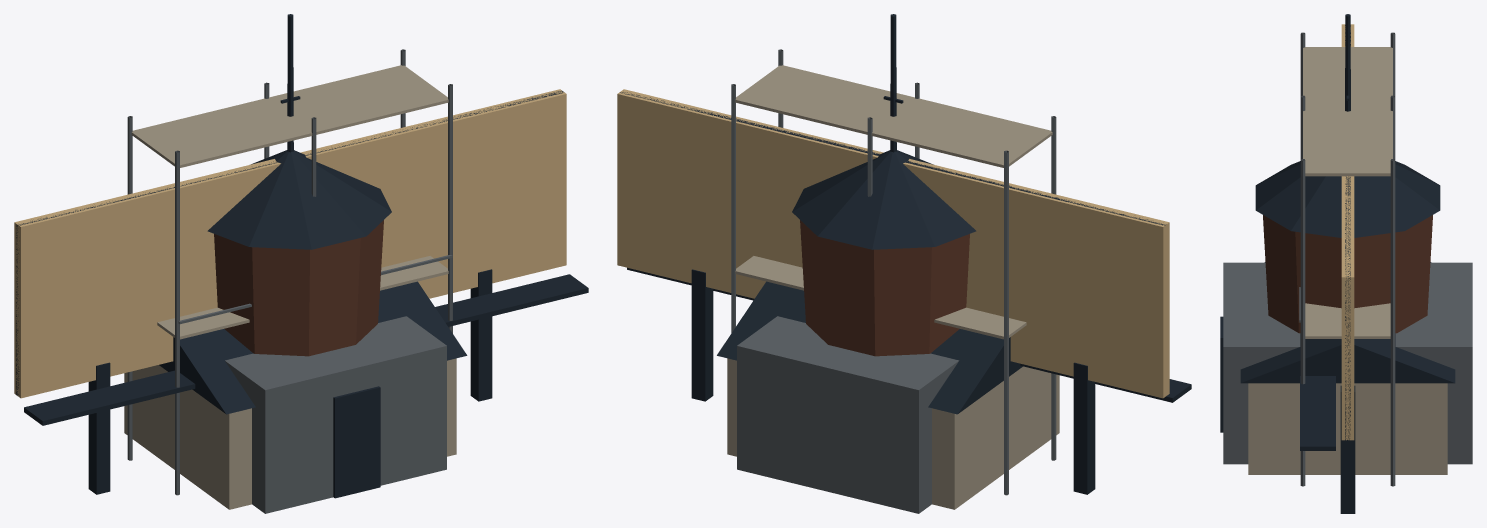
Rendered from kit.glb.
3 views of the same model, side by side, from view 1: azimuth 30°, elevation 25°; view 2: azimuth 150°, elevation 25°; view 3: azimuth 270°, elevation 25° (orthographic). The views are drawn at different scales.
Parts seen in each view (by area): view 1: billboardFrame, stairBulkhead, waterTower, scaffolding, rooftopShack, antenna; view 2: billboardFrame, stairBulkhead, waterTower, scaffolding, rooftopShack, antenna; view 3: waterTower, rooftopShack, scaffolding, stairBulkhead, billboardFrame, antenna.
Boxes of the visible parts, x1=… form: billboardFrame: x1=14, y1=89, x2=588, y2=494; stairBulkhead: x1=225, y1=316, x2=446, y2=513; waterTower: x1=207, y1=150, x2=391, y2=356; scaffolding: x1=127, y1=49, x2=452, y2=495; rooftopShack: x1=124, y1=281, x2=467, y2=509; antenna: x1=280, y1=14, x2=300, y2=152; billboardFrame: x1=617, y1=89, x2=1191, y2=494; stairBulkhead: x1=737, y1=316, x2=959, y2=513; waterTower: x1=792, y1=150, x2=976, y2=356; scaffolding: x1=731, y1=49, x2=1056, y2=495; rooftopShack: x1=717, y1=281, x2=1059, y2=509; antenna: x1=883, y1=14, x2=903, y2=152; waterTower: x1=1255, y1=161, x2=1440, y2=333; rooftopShack: x1=1240, y1=262, x2=1455, y2=474; scaffolding: x1=1299, y1=32, x2=1395, y2=486; stairBulkhead: x1=1220, y1=262, x2=1472, y2=464; billboardFrame: x1=1300, y1=24, x2=1355, y2=513; antenna: x1=1345, y1=14, x2=1350, y2=111.
Bounding box in the file's own units: 12 × 9.05 × 5.06.
